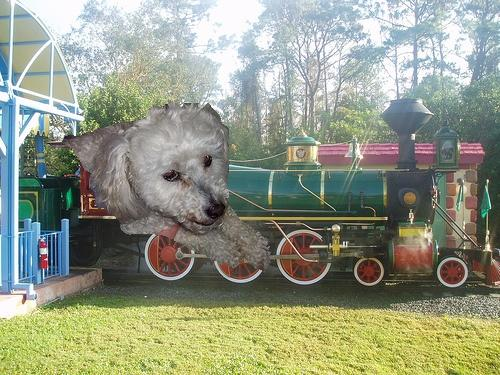tampered: (63, 101, 271, 274)
